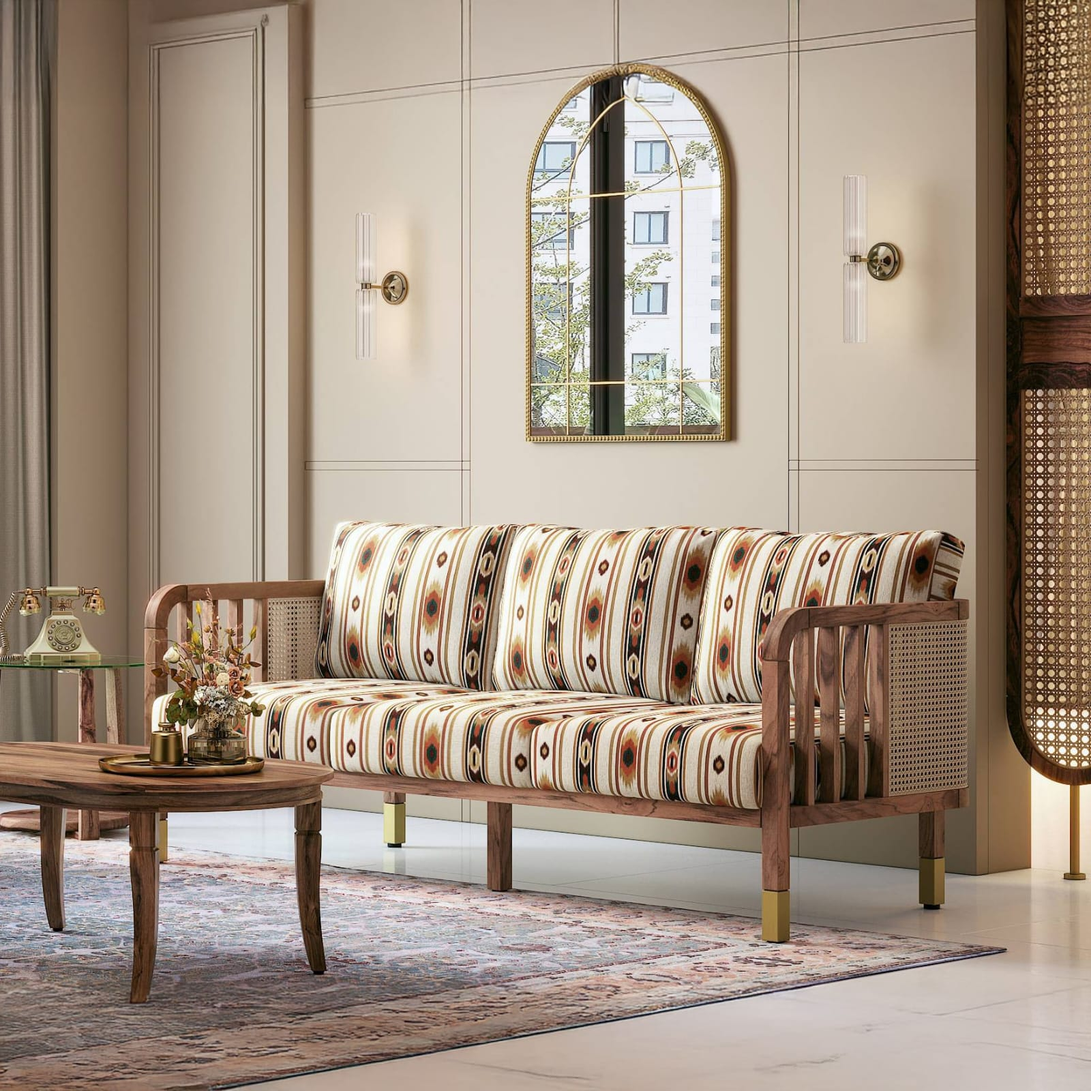3seatersofa: (145, 522, 970, 940)
backrest: (316, 523, 962, 702)
leftarmrest: (759, 599, 968, 833)
leg: (762, 802, 790, 941), (919, 811, 945, 908), (487, 802, 511, 891), (384, 792, 405, 847)
rightarmrest: (144, 580, 324, 737)
seat: (245, 678, 762, 809)
